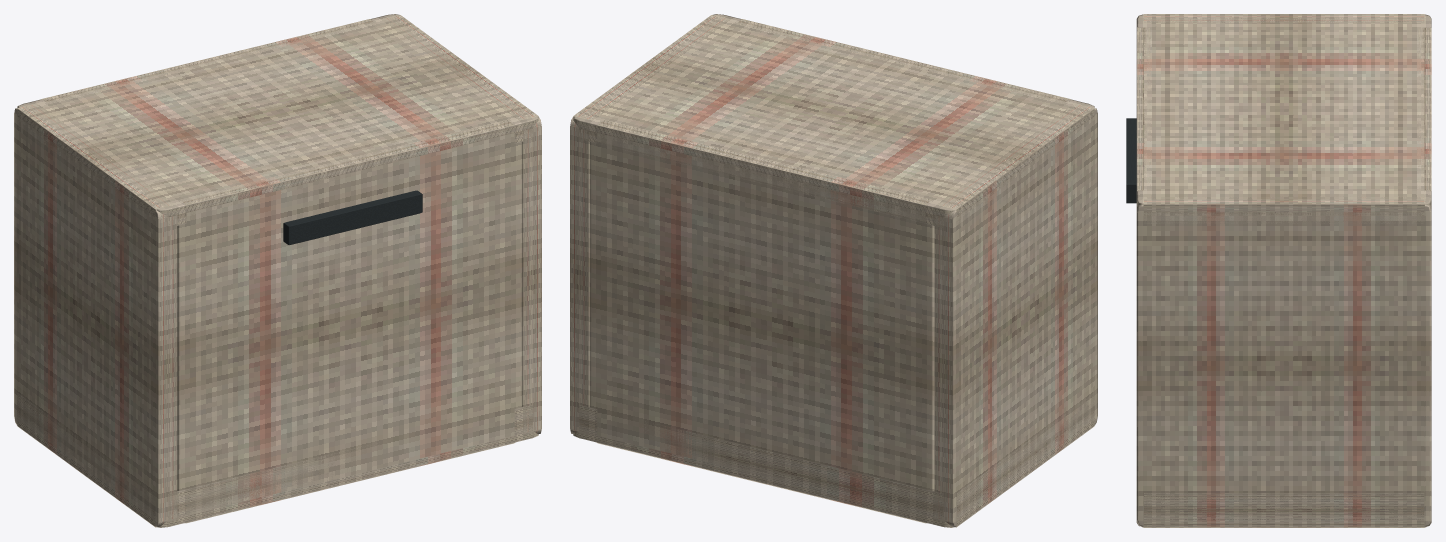
Rendered from dry-food.glb.
3 renders of one model, left to right at view 1: azimuth 30°, elevation 25°; view 2: azimuth 150°, elevation 25°; view 3: azimuth 270°, elevation 25°, orthographic.
Parts seen in each view (by area): view 1: edge (×2), side (×2), lid, bottom, grip; view 2: edge (×2), side (×2), lid, bottom; view 3: side (×2), lid, bottom, edge (×2), grip.
Boxes of the visible parts, bbox=[...] form: edge (×2): bbox=[41, 19, 522, 523]; side (×2): bbox=[14, 15, 541, 527]; lid: bbox=[17, 14, 538, 227]; bottom: bbox=[17, 393, 538, 527]; grip: bbox=[283, 190, 422, 244]; edge (×2): bbox=[589, 19, 1070, 523]; side (×2): bbox=[570, 15, 1097, 527]; lid: bbox=[573, 14, 1094, 227]; bottom: bbox=[573, 393, 1094, 527]; side (×2): bbox=[1136, 14, 1431, 527]; lid: bbox=[1136, 14, 1431, 223]; bottom: bbox=[1136, 493, 1431, 527]; edge (×2): bbox=[1137, 27, 1431, 191]; grip: bbox=[1126, 118, 1136, 203].
Bounding box in the file's own units: 0.29 × 0.23 × 0.1966.
2 materials, 2 textured.
